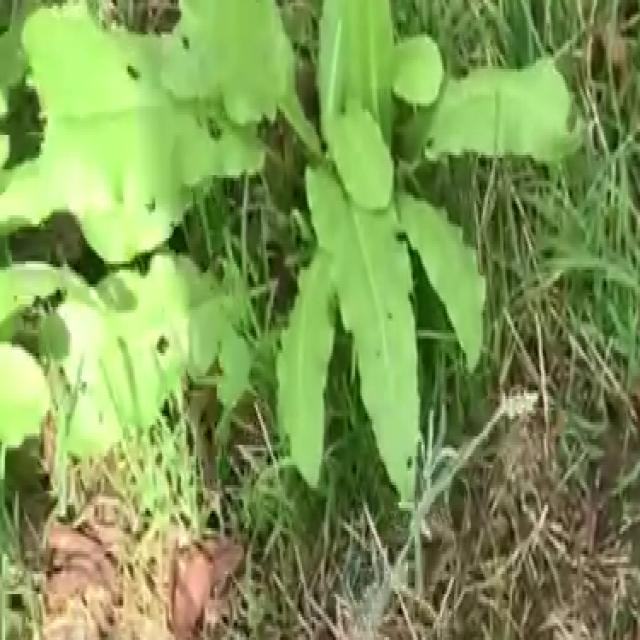organic waste: (0, 0, 567, 525)
